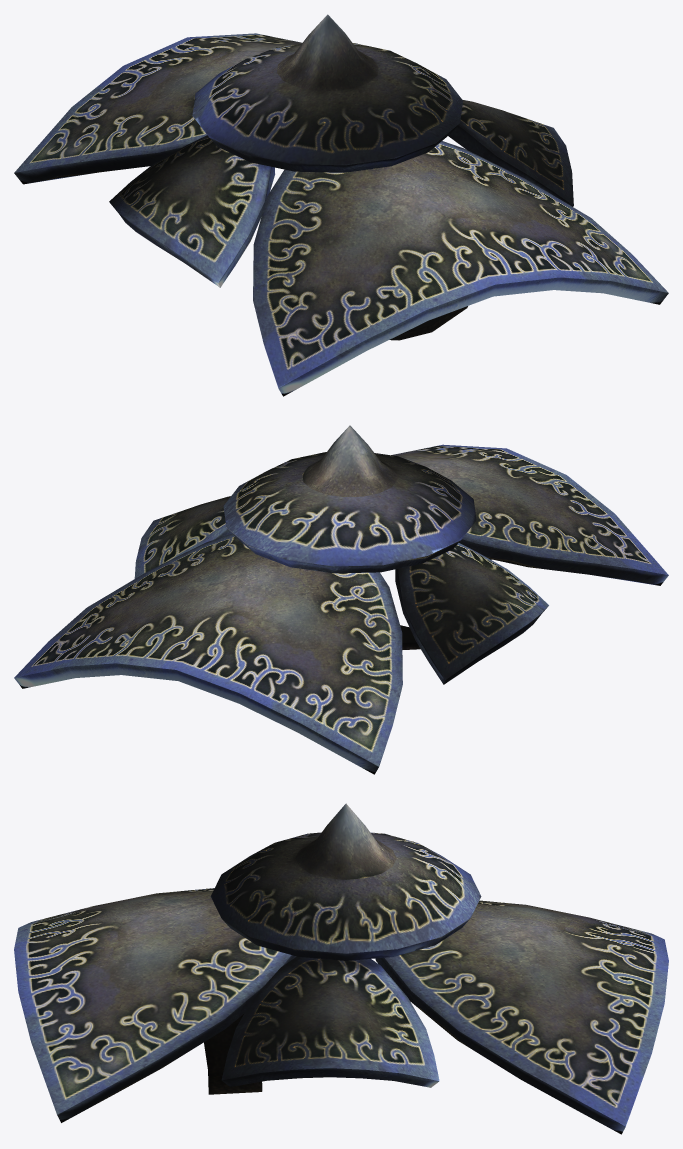
The model's file is SH_Shield_E.FBX.
3 renders of one model, top to bottom at view 1: azimuth 30°, elevation 25°; view 2: azimuth 150°, elevation 25°; view 3: azimuth 270°, elevation 25°, orthographic. The views are drawn at different scales.
Parts seen in each view (by area): view 1: SH_Shield_E; view 2: SH_Shield_E; view 3: SH_Shield_E.
Boxes of the visible parts, <box> form: SH_Shield_E: <box>14,14,668,396</box>; SH_Shield_E: <box>14,425,668,774</box>; SH_Shield_E: <box>14,803,668,1134</box>.
Bounding box in the file's own units: 56.08 × 35.77 × 77.72.
